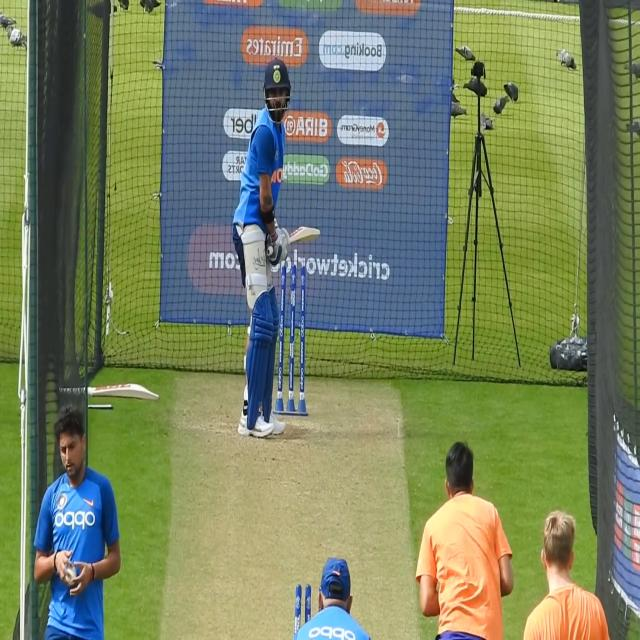stump: (275, 260, 307, 419)
